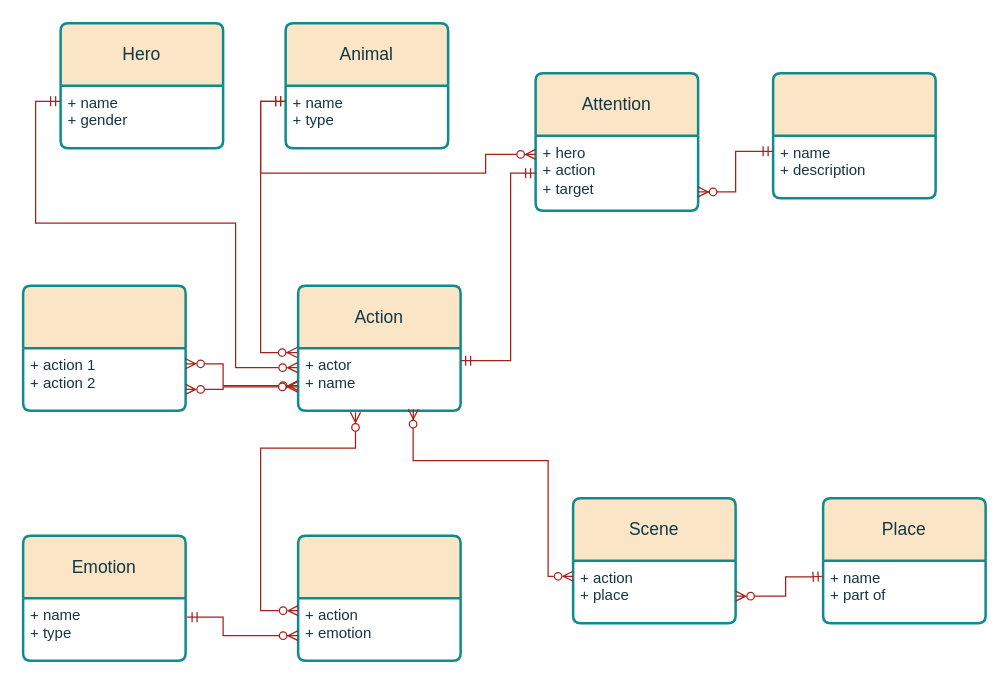
Some shapes in this 1008 by 683 pixel diagram are drawn without their labels. The shapes that lost their labels are listed below. From the top down, each one's box as (x1, y1, x2, y2) in pixels, then its label:
(771, 71, 936, 199): Item
(21, 284, 186, 411): Steps queue
(296, 534, 461, 661): Feelings
